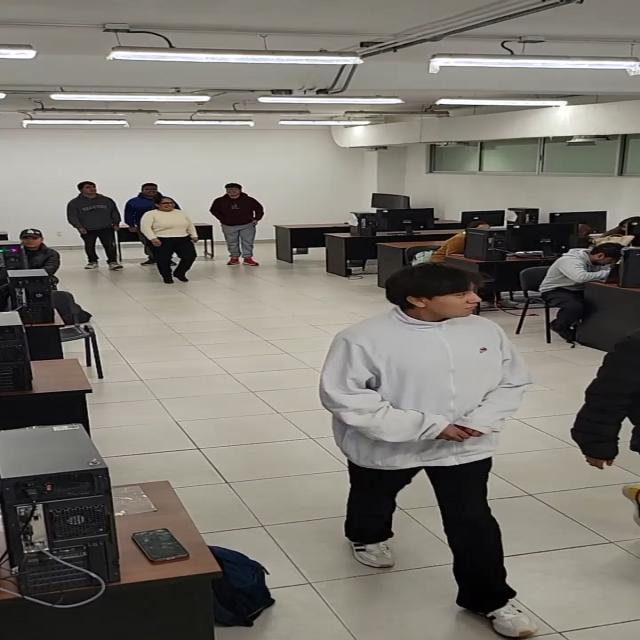Persona: (319, 263, 543, 640), (66, 181, 125, 272), (142, 197, 200, 285), (208, 183, 266, 267), (125, 183, 170, 233)
